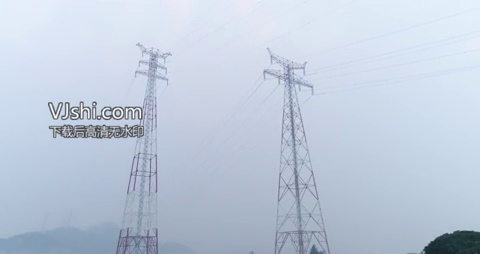tower_body: (253, 43, 338, 254)
tower_foot: (272, 209, 333, 253)
tower_head: (256, 46, 318, 93)
